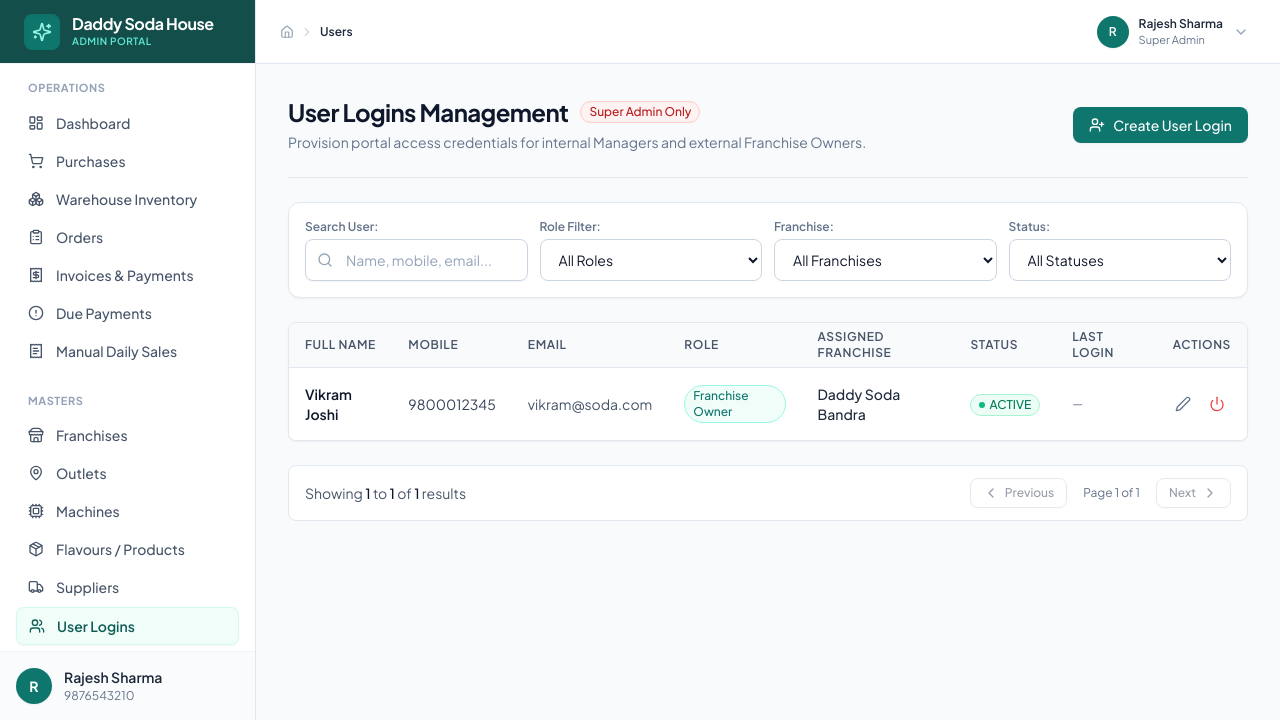
Test: Daddy Soda House Master Data Module › hides franchise selection when user role is MANAGER
This screenshot has width=1280, height=720.
Click the button "Create User Login" at (1161, 124), box [1073,106,1248,142]
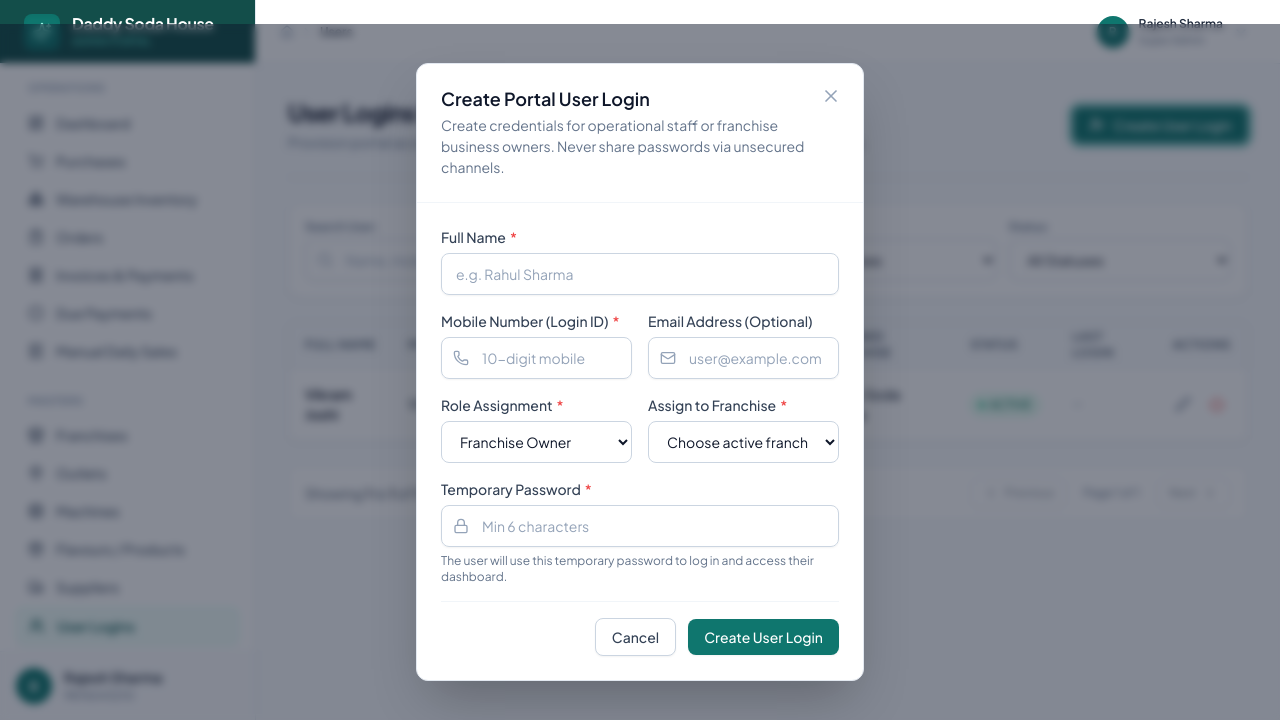
Select "Manager (HQ Operations)" in the dropdown labelled "Role Assignment*" at (536, 442), box [441,421,632,463]
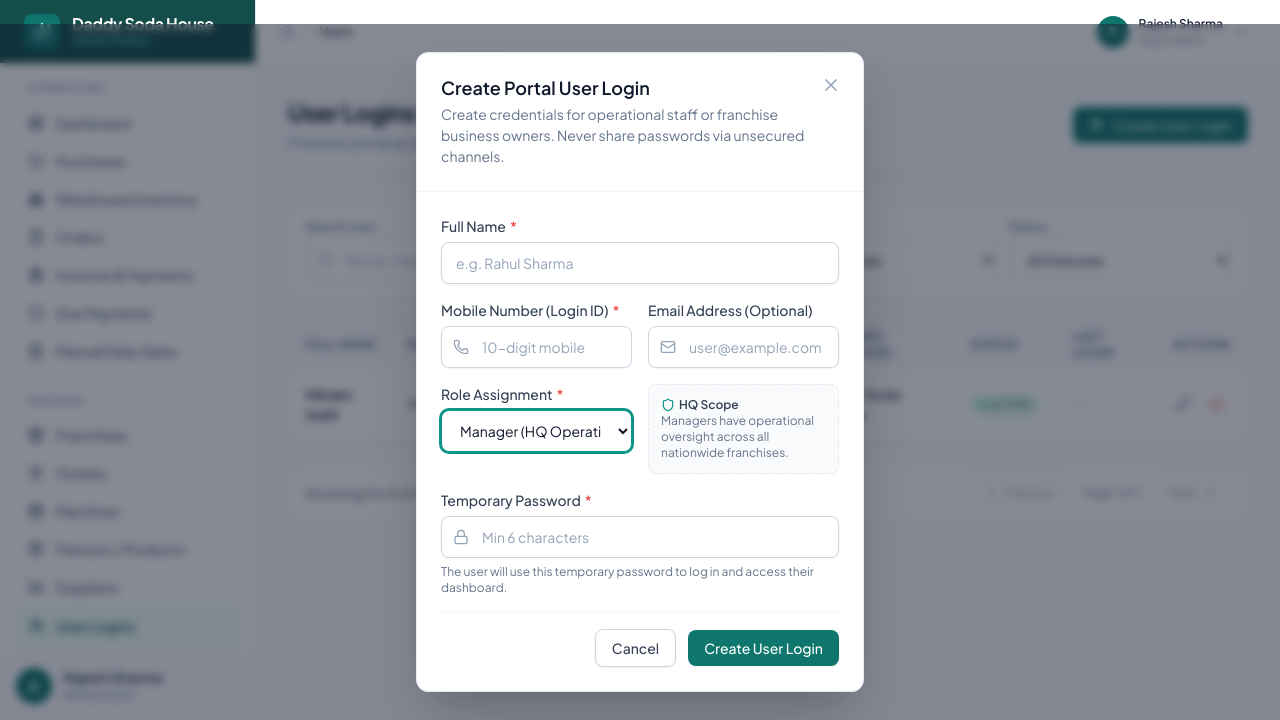
Now the label labelled "Assign to Franchise" is gone
Now the text "HQ Scope" is shown, box [661,397,739,412]
